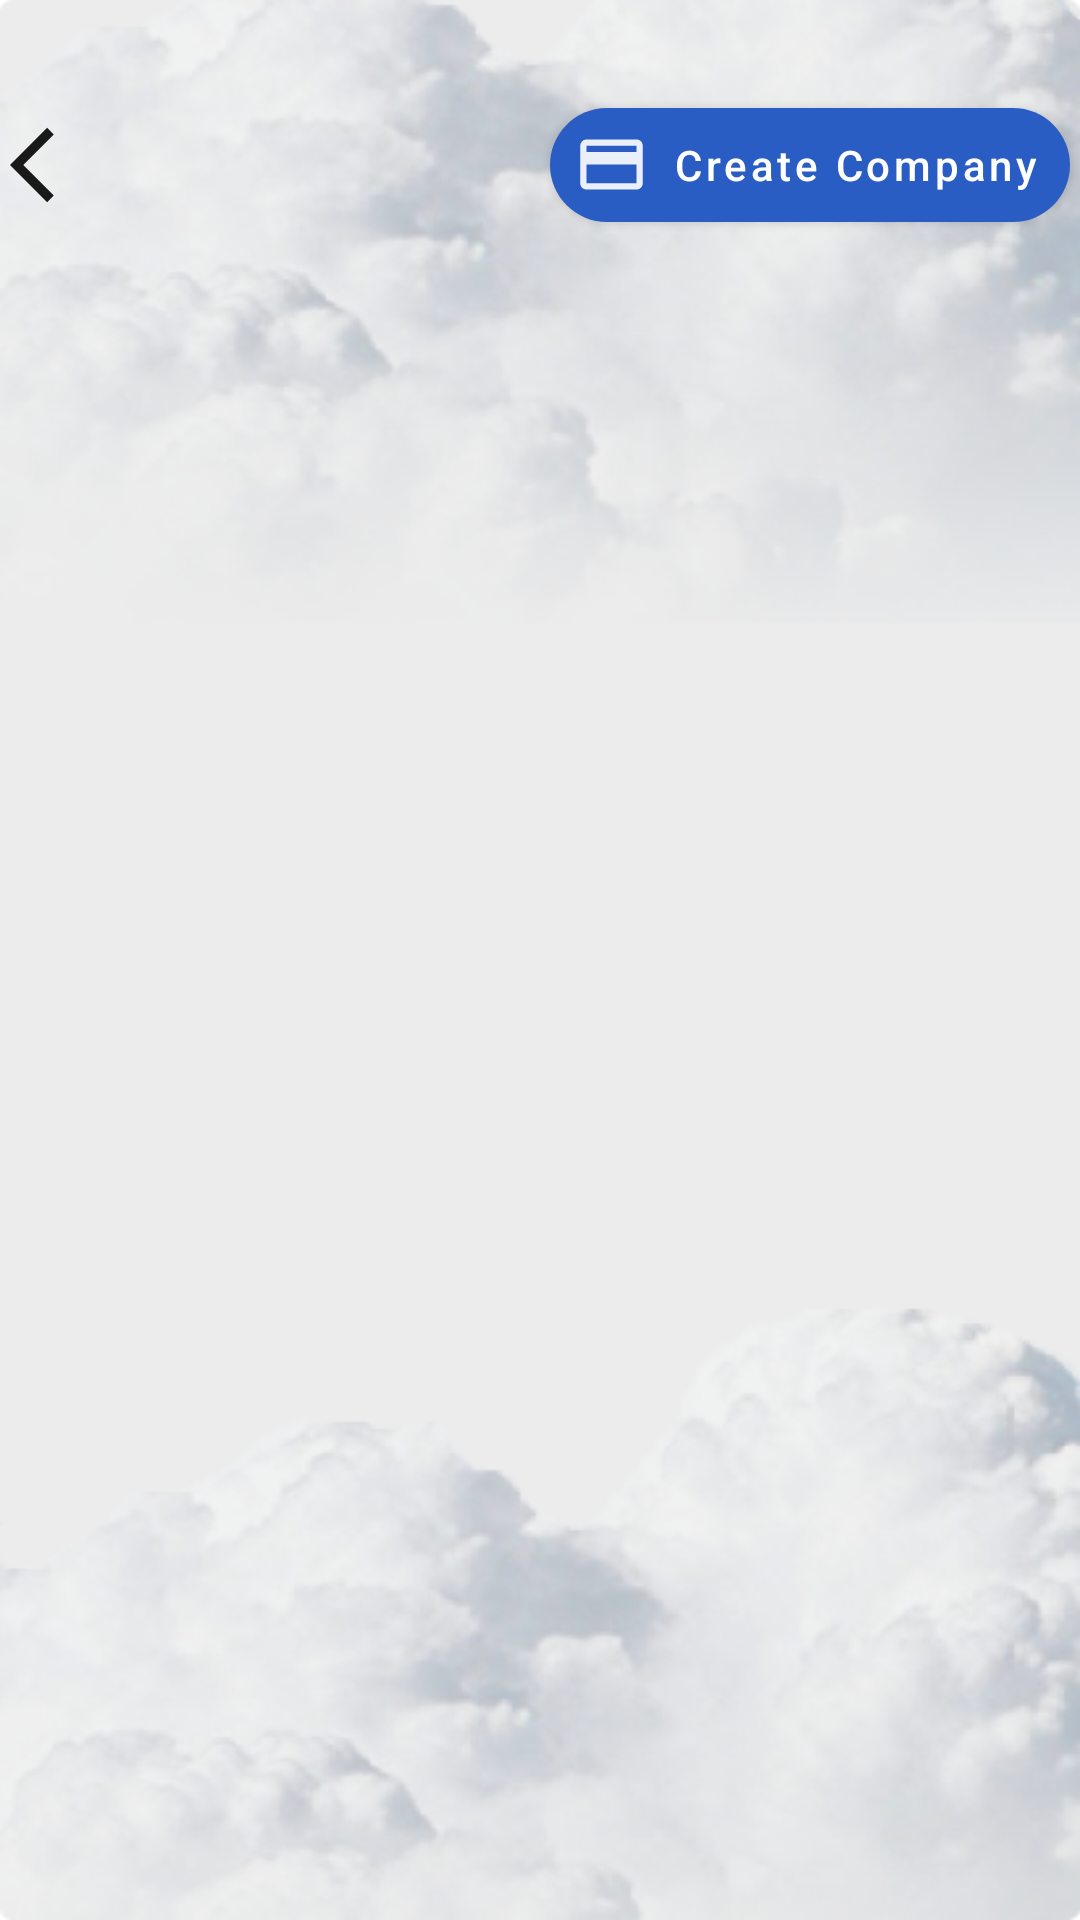

Point at icon controls on the screen. Image size 1080x1920, points as [x,y].
arrow back: [32,165]
